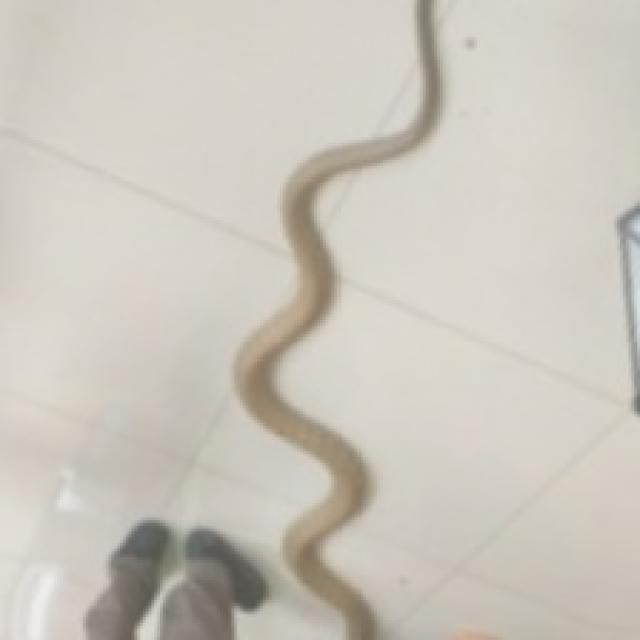king cobra: (234, 0, 440, 637)
